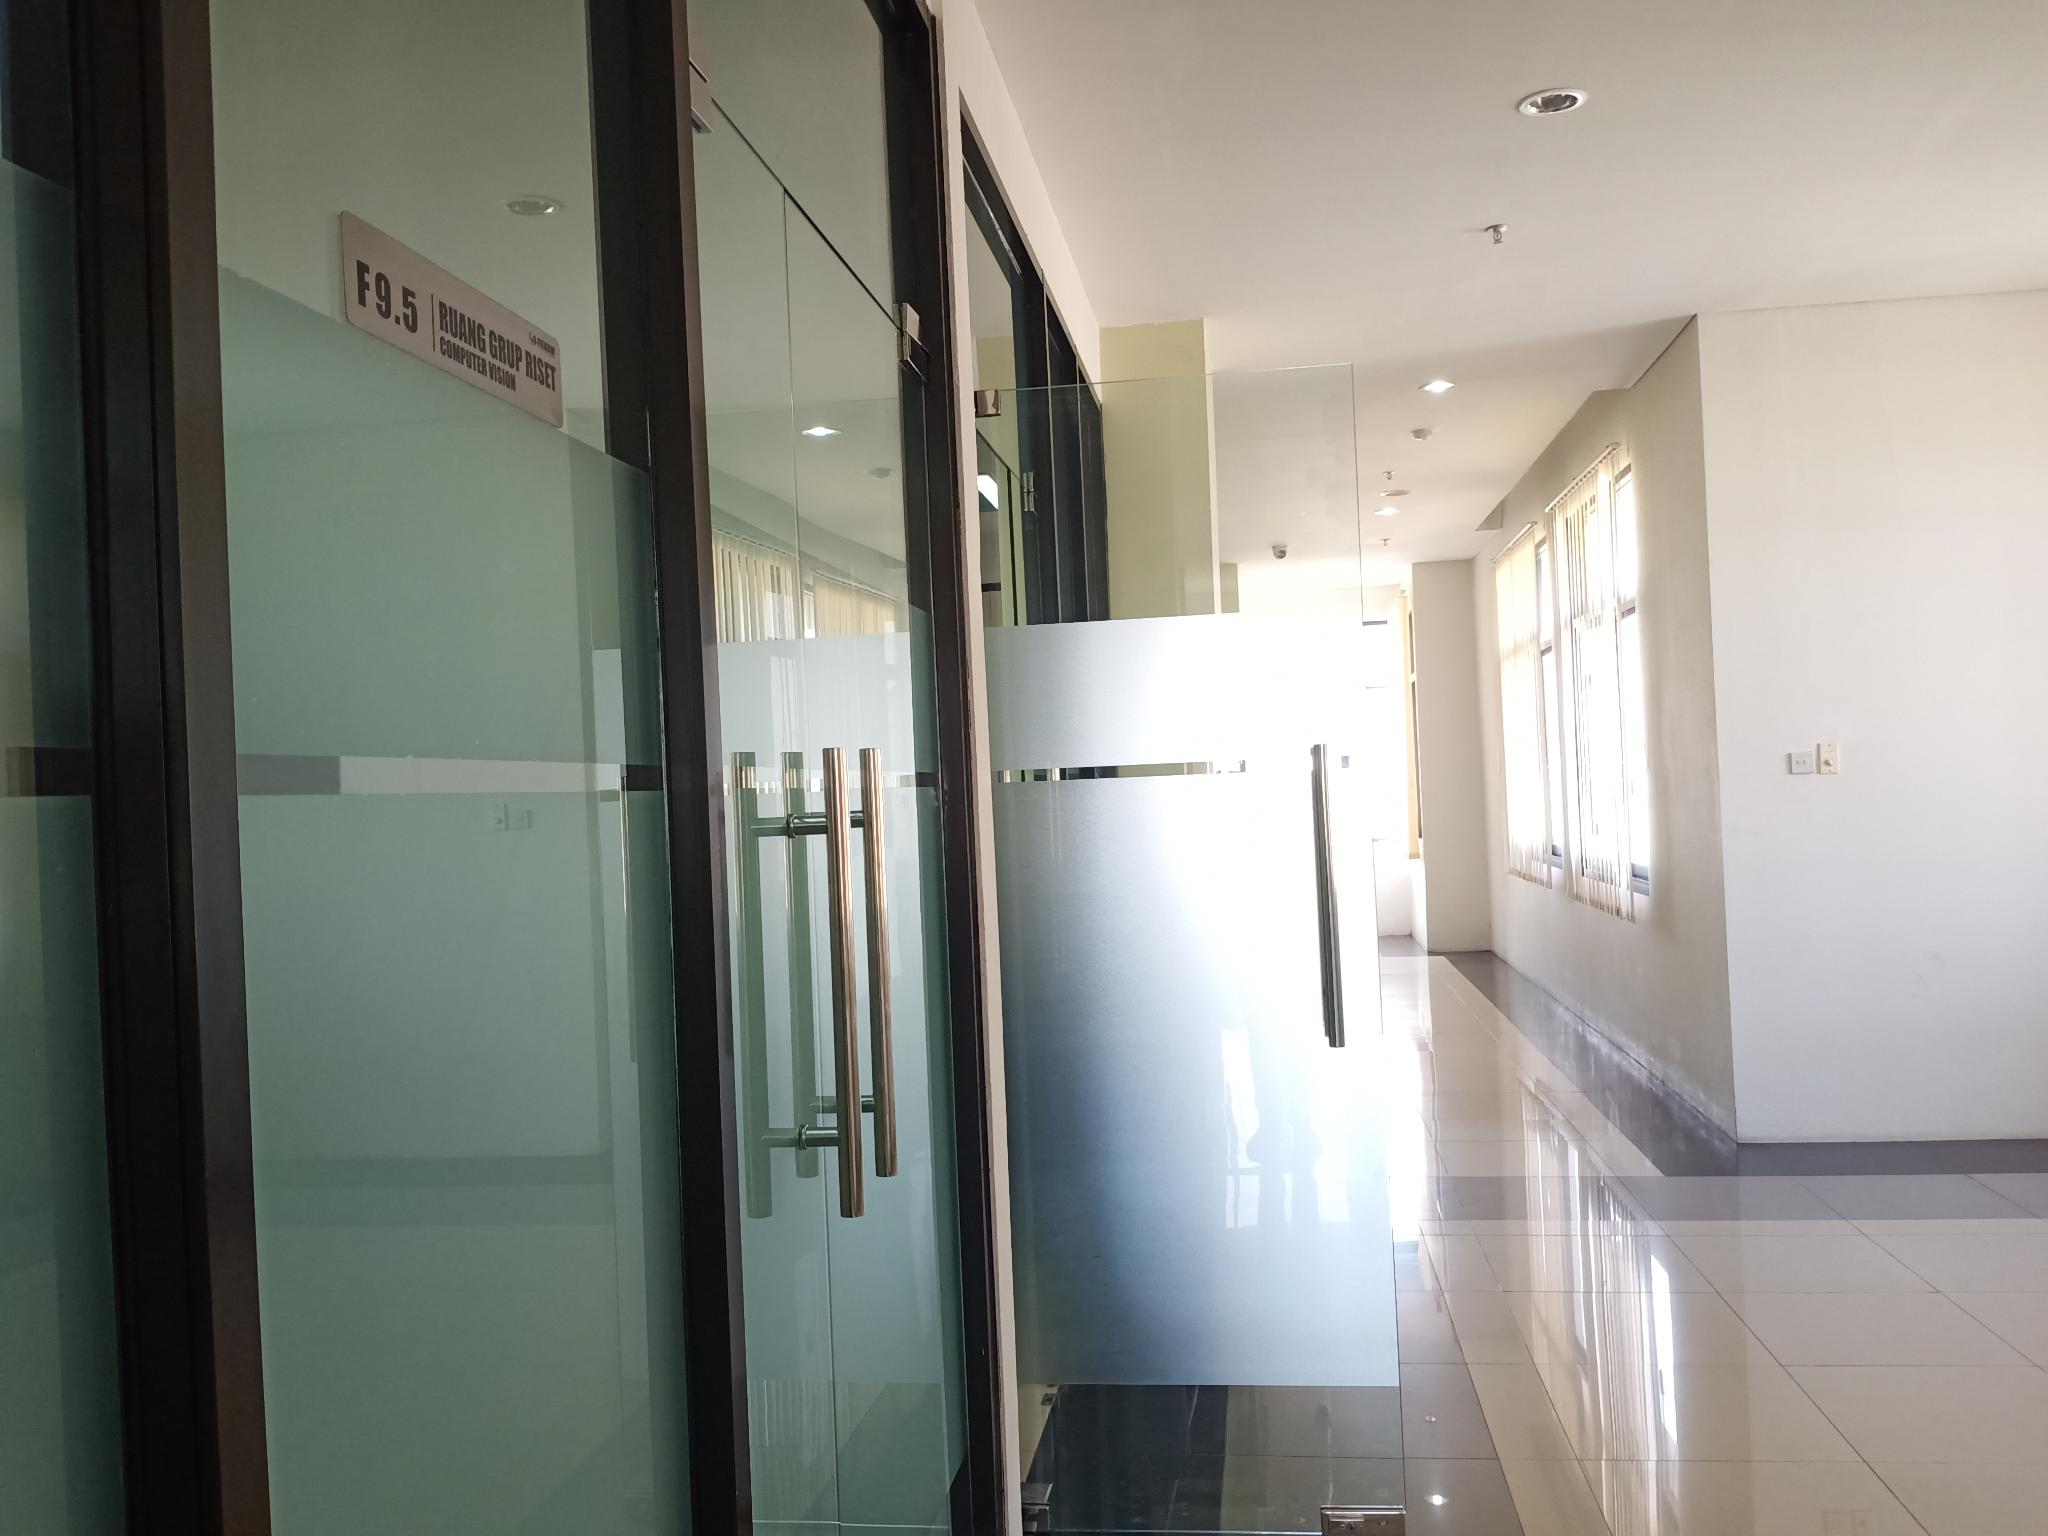plate: (340, 203, 564, 434)
